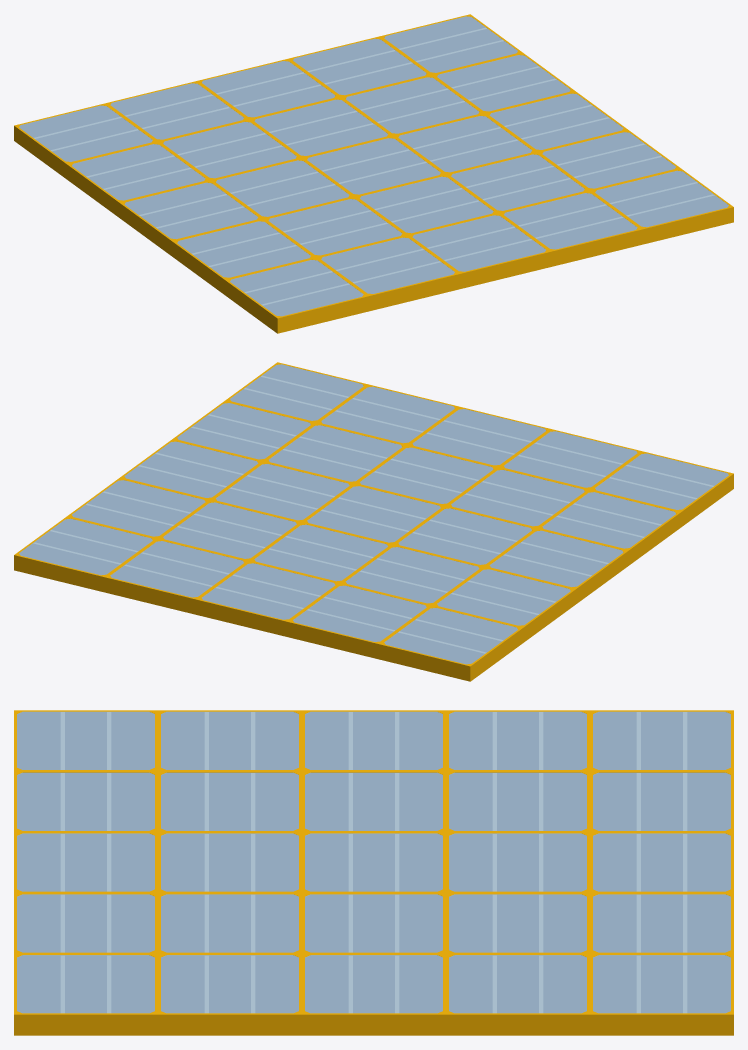
The model's file is epe_solar_flat_5x5.dae.
The picture shows the model from 3 angles, top to bottom: view 1: azimuth 30°, elevation 25°; view 2: azimuth 150°, elevation 25°; view 3: azimuth 270°, elevation 25°; orthographic projection. The views are drawn at different scales.
Visible parts, largest first — view 1: solar_flat_5x5; view 2: solar_flat_5x5; view 3: solar_flat_5x5.
Boxes of the visible parts, left/top/right/bottom form: solar_flat_5x5: left=14, top=14, right=733, bottom=333; solar_flat_5x5: left=14, top=362, right=733, bottom=681; solar_flat_5x5: left=14, top=710, right=733, bottom=1035.
Bounding box in the file's own units: 1.25 × 1.25 × 0.04.
